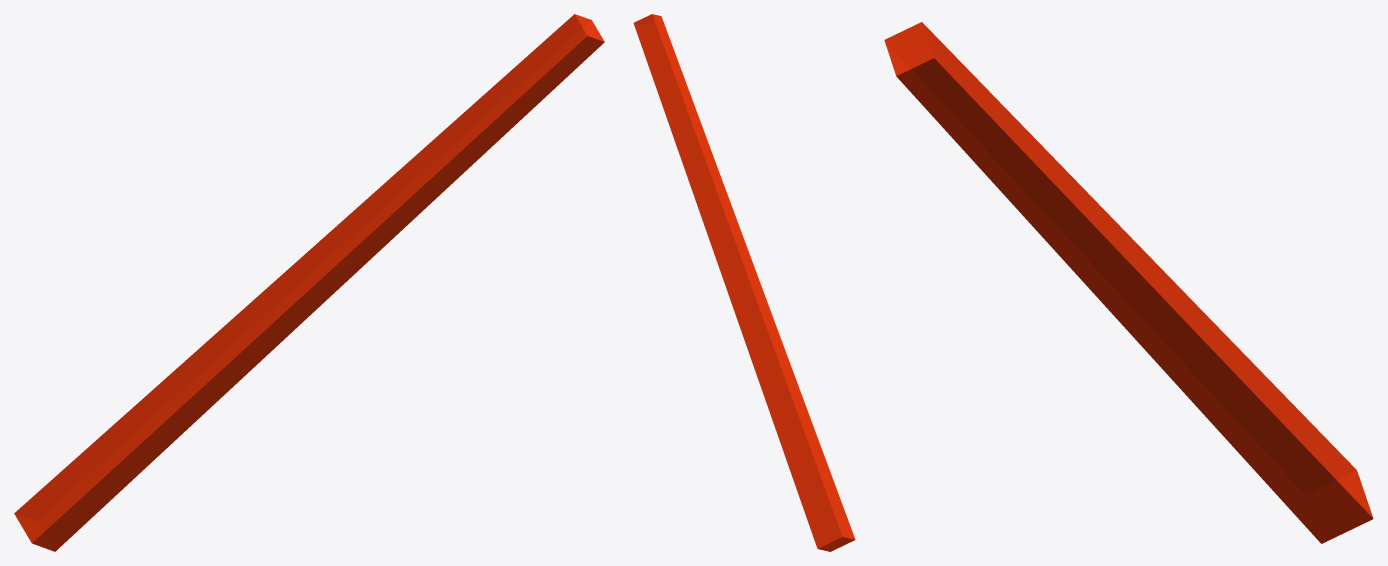
Rendered from Event_421127236_EBrechit_19.fbx.
3 renders of one model, left to right at view 1: azimuth 30°, elevation 25°; view 2: azimuth 150°, elevation 25°; view 3: azimuth 270°, elevation 25°, orthographic. The views are drawn at different scales.
Parts seen in each view (by area): view 1: Model; view 2: Model; view 3: Model.
Part boxes in pixels (x1,y1,x2,y2): Model: [14, 14, 604, 551]; Model: [633, 14, 855, 551]; Model: [884, 22, 1373, 543].
Bounding box in the file's own units: 0.9453 × 1.14 × 0.6359.
